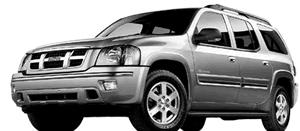car: (12, 6, 300, 131)
